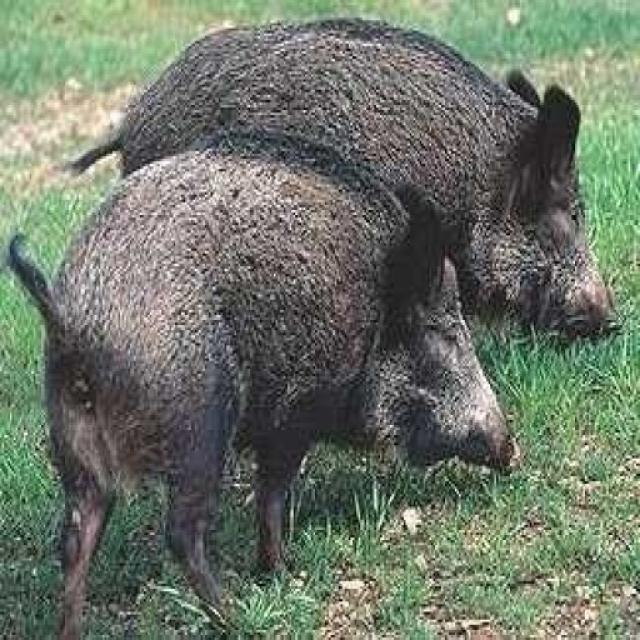pig: (5, 114, 535, 586)
